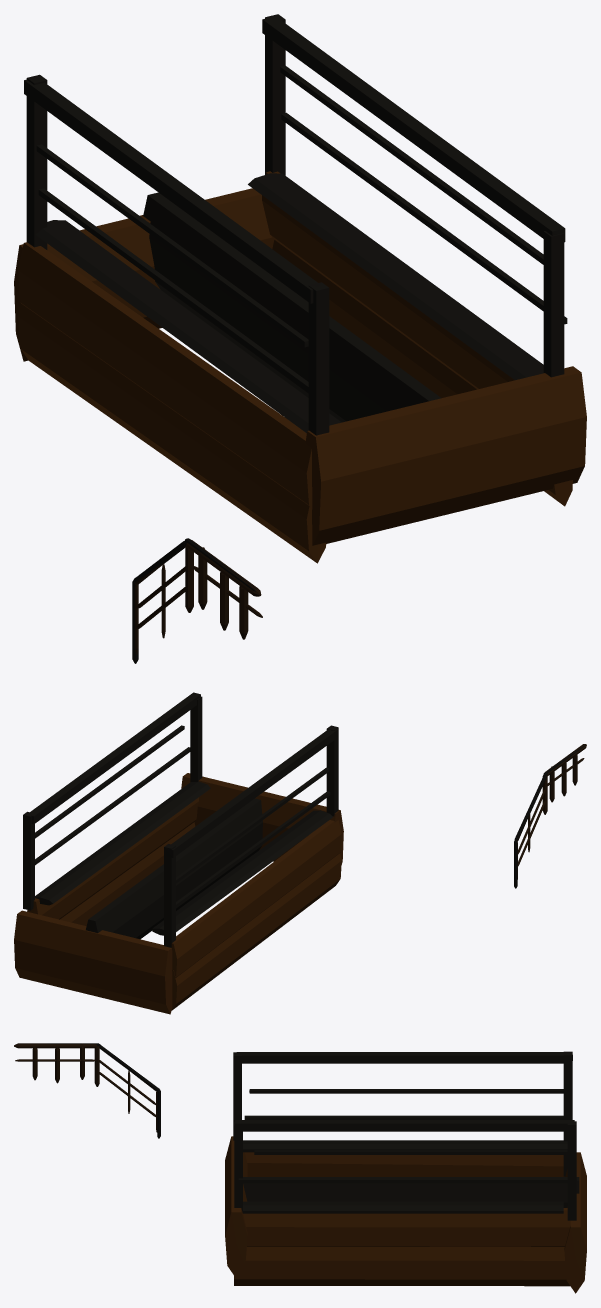
The model's file is Becken.fbx.
The picture shows the model from 3 angles, top to bottom: view 1: azimuth 30°, elevation 25°; view 2: azimuth 150°, elevation 25°; view 3: azimuth 270°, elevation 25°; orthographic projection. The views are drawn at different scales.
Parts seen in each view (by area): view 1: Becken; view 2: Becken; view 3: Becken.
Boxes of the visible parts, x1,y1,x2,y2 form: Becken: [14, 14, 586, 663]; Becken: [14, 692, 586, 1014]; Becken: [14, 1043, 586, 1293].
Bounding box in the file's own units: 4.27 × 2.28 × 7.08.
